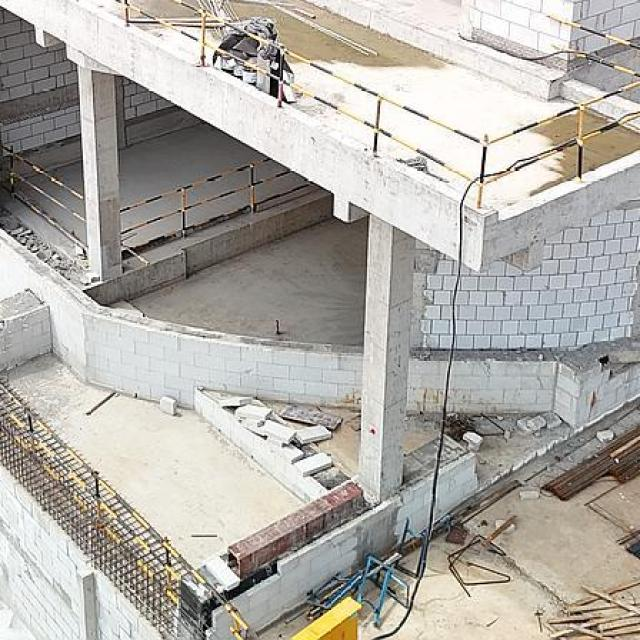edge_guardrail: (114, 0, 640, 209), (0, 381, 251, 631), (117, 157, 296, 267), (0, 143, 87, 251)
